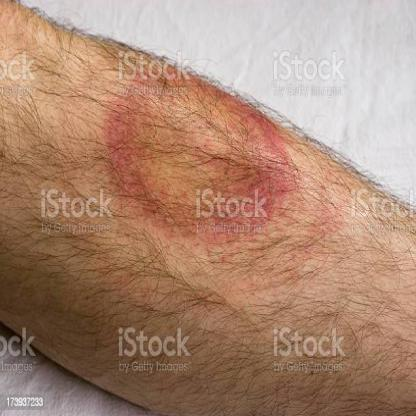Tick: (101, 67, 295, 245)
